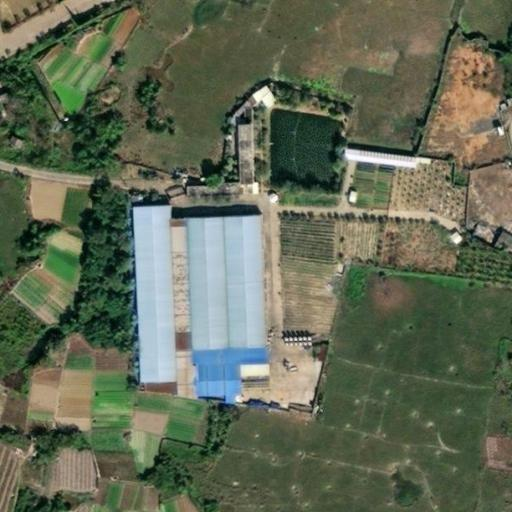building: (122, 203, 186, 399), (176, 214, 261, 352), (183, 348, 263, 396), (337, 148, 406, 167), (232, 121, 251, 186), (183, 176, 237, 195), (246, 77, 278, 109), (486, 231, 512, 253), (4, 128, 27, 149), (441, 231, 454, 244), (488, 144, 496, 155), (340, 191, 347, 201)
